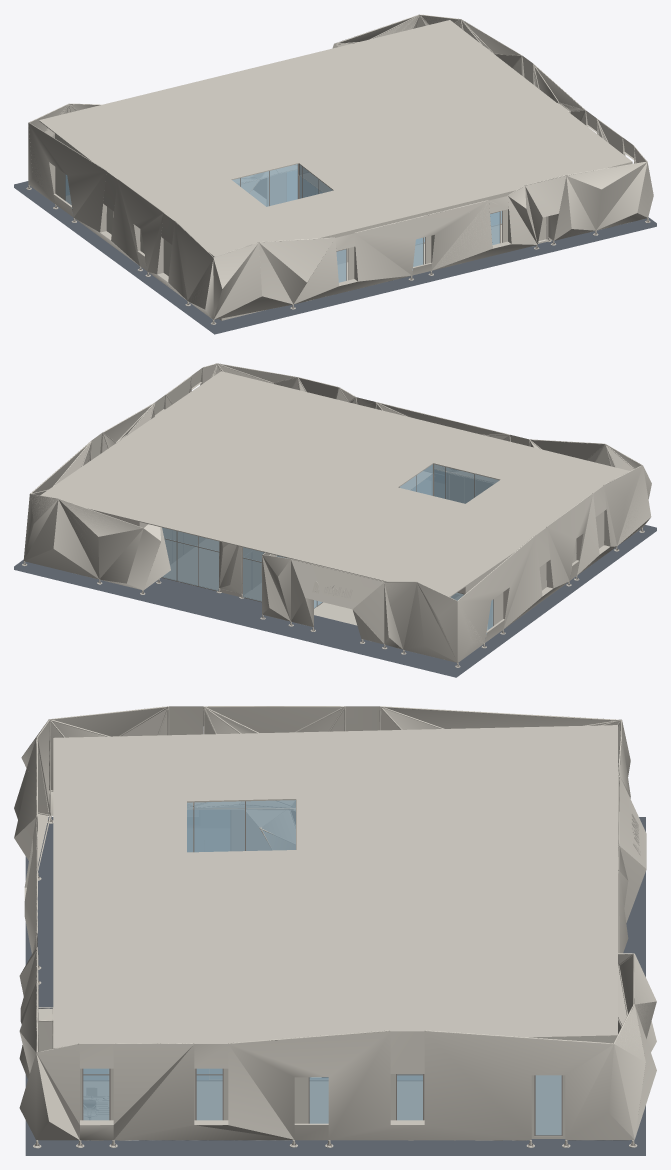
The model's file is bmc-management.glb.
The picture shows the model from 3 angles, top to bottom: view 1: azimuth 30°, elevation 25°; view 2: azimuth 150°, elevation 25°; view 3: azimuth 270°, elevation 25°; orthographic projection. The views are drawn at different scales.
Visible parts, largest first — view 1: stone, ground, glass, metal; view 2: stone, ground, glass, metal; view 3: stone, ground, glass, metal.
Boxes of the visible parts, x1,y1,x2,y2 form: stone: [26, 14, 653, 324]; ground: [14, 181, 656, 334]; glass: [65, 164, 501, 282]; metal: [27, 164, 649, 323]; stone: [22, 363, 651, 667]; ground: [14, 525, 656, 677]; glass: [162, 464, 499, 634]; metal: [23, 464, 643, 666]; stone: [14, 706, 656, 1148]; ground: [25, 817, 645, 1155]; glass: [83, 800, 561, 1135]; metal: [34, 800, 635, 1146].
Size of the model in its own units: 99.99 by 16.76 by 80.24.
